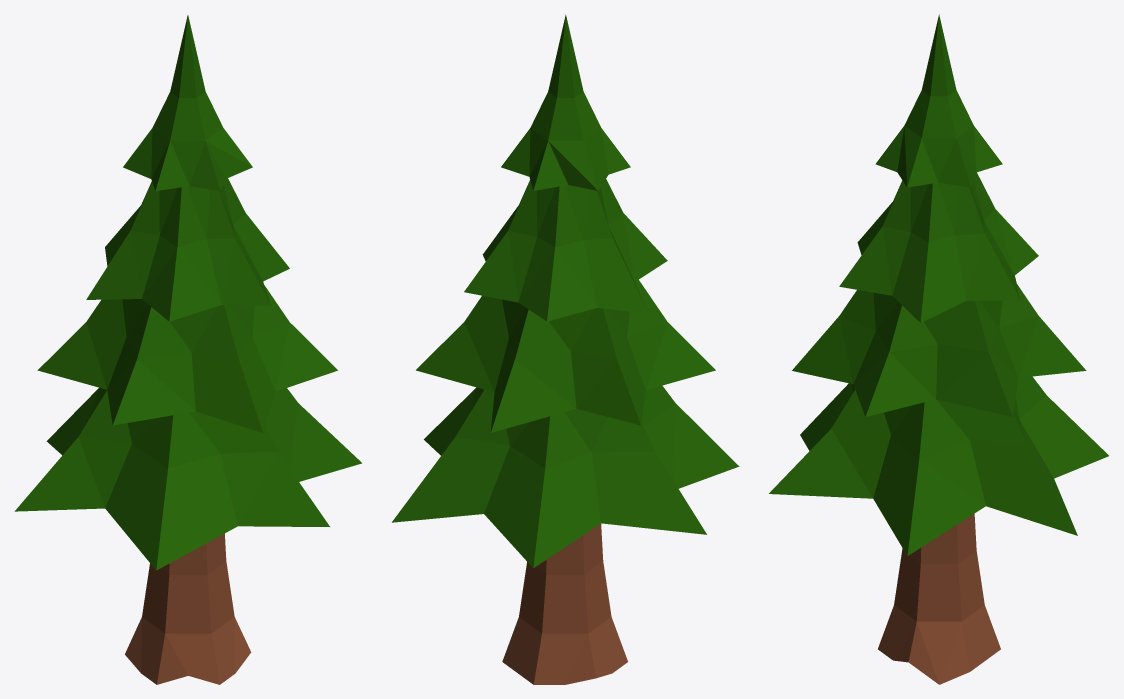
Rendered from Tree2.FBX.
The picture shows the model from 3 angles, left to right: view 1: azimuth 30°, elevation 25°; view 2: azimuth 150°, elevation 25°; view 3: azimuth 270°, elevation 25°; orthographic projection. The views are drawn at different scales.
Visible parts, largest first — view 1: Cylinder005; view 2: Cylinder005; view 3: Cylinder005.
Part boxes in pixels (bbox=[...]): Cylinder005: bbox=[14, 15, 361, 684]; Cylinder005: bbox=[392, 14, 739, 684]; Cylinder005: bbox=[769, 14, 1108, 684].
Size of the model in its own units: 647 by 1284 by 618.
1 material, 1 textured.
